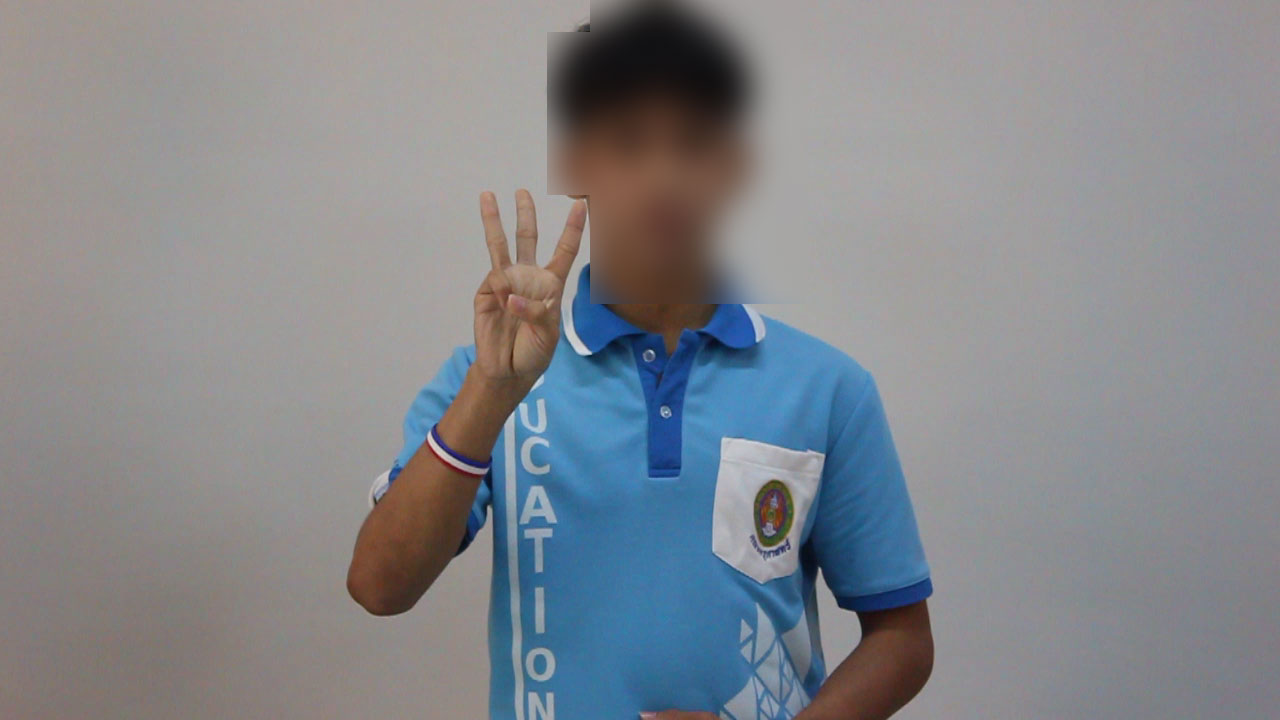wor: (464, 180, 594, 389)
